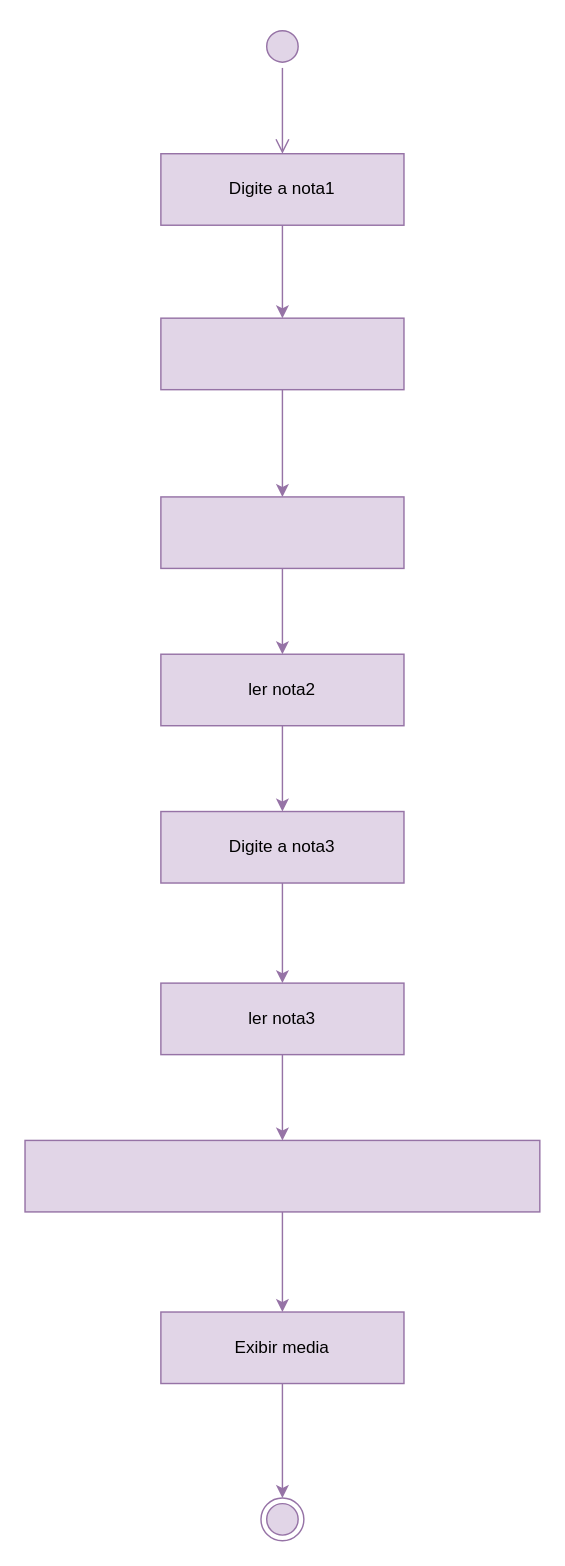
Image size: 565x1566. Some labels were removed from this diagram. The box of each missing label's shape, as (x1, y1, x2, y2) in pixels:
Digite a nota2: (159, 495, 404, 568)
ler nota1: (159, 317, 404, 390)
media = ((nota1 * 5) + (nota2 * 3) + (nota3 * 2)) / 10: (24, 1139, 540, 1212)
